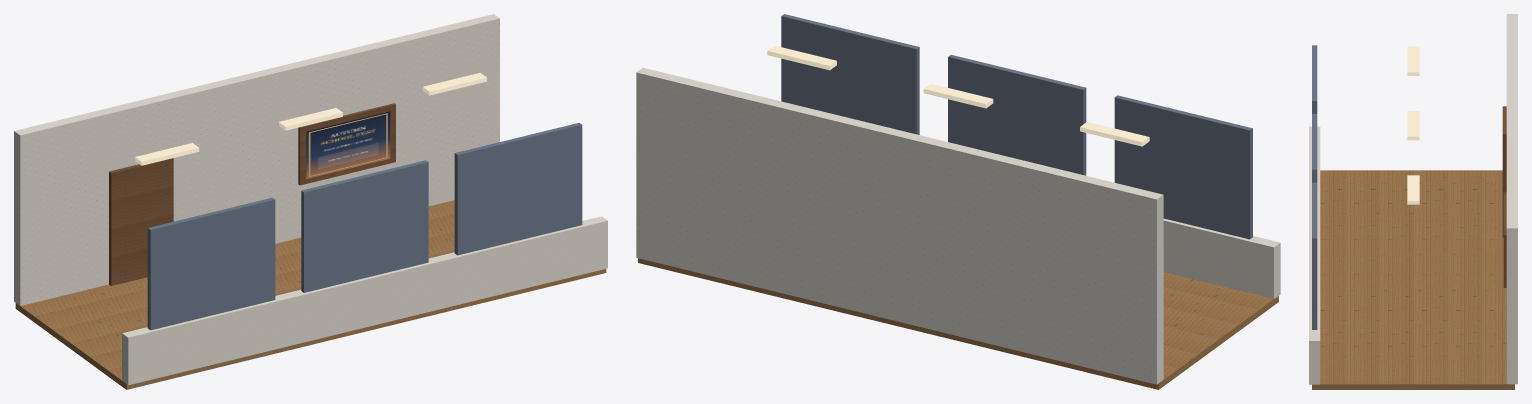
File: ch5_env_school_corridor.glb
3 views of the same model, side by side, from view 1: azimuth 30°, elevation 25°; view 2: azimuth 150°, elevation 25°; view 3: azimuth 270°, elevation 25° (orthographic). The views are drawn at different scales.
Visible parts, largest first — view 1: ch5_env_school_corridor; view 2: ch5_env_school_corridor; view 3: ch5_env_school_corridor.
Boxes of the visible parts, x1,y1,x2,y2 form: ch5_env_school_corridor: (14,14,607,389); ch5_env_school_corridor: (636,14,1280,389); ch5_env_school_corridor: (1309,14,1517,389).
Bounding box in the file's own units: 10 × 3.52 × 4.12.
7 materials, 4 textured.
